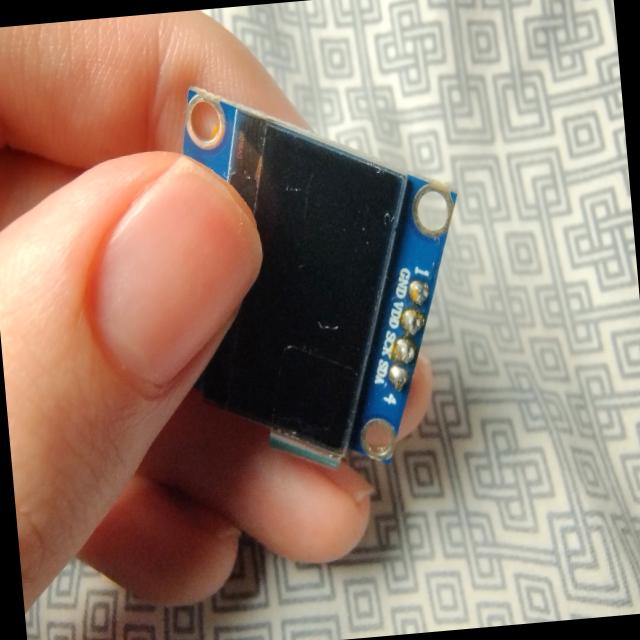oled: (135, 59, 489, 502)
